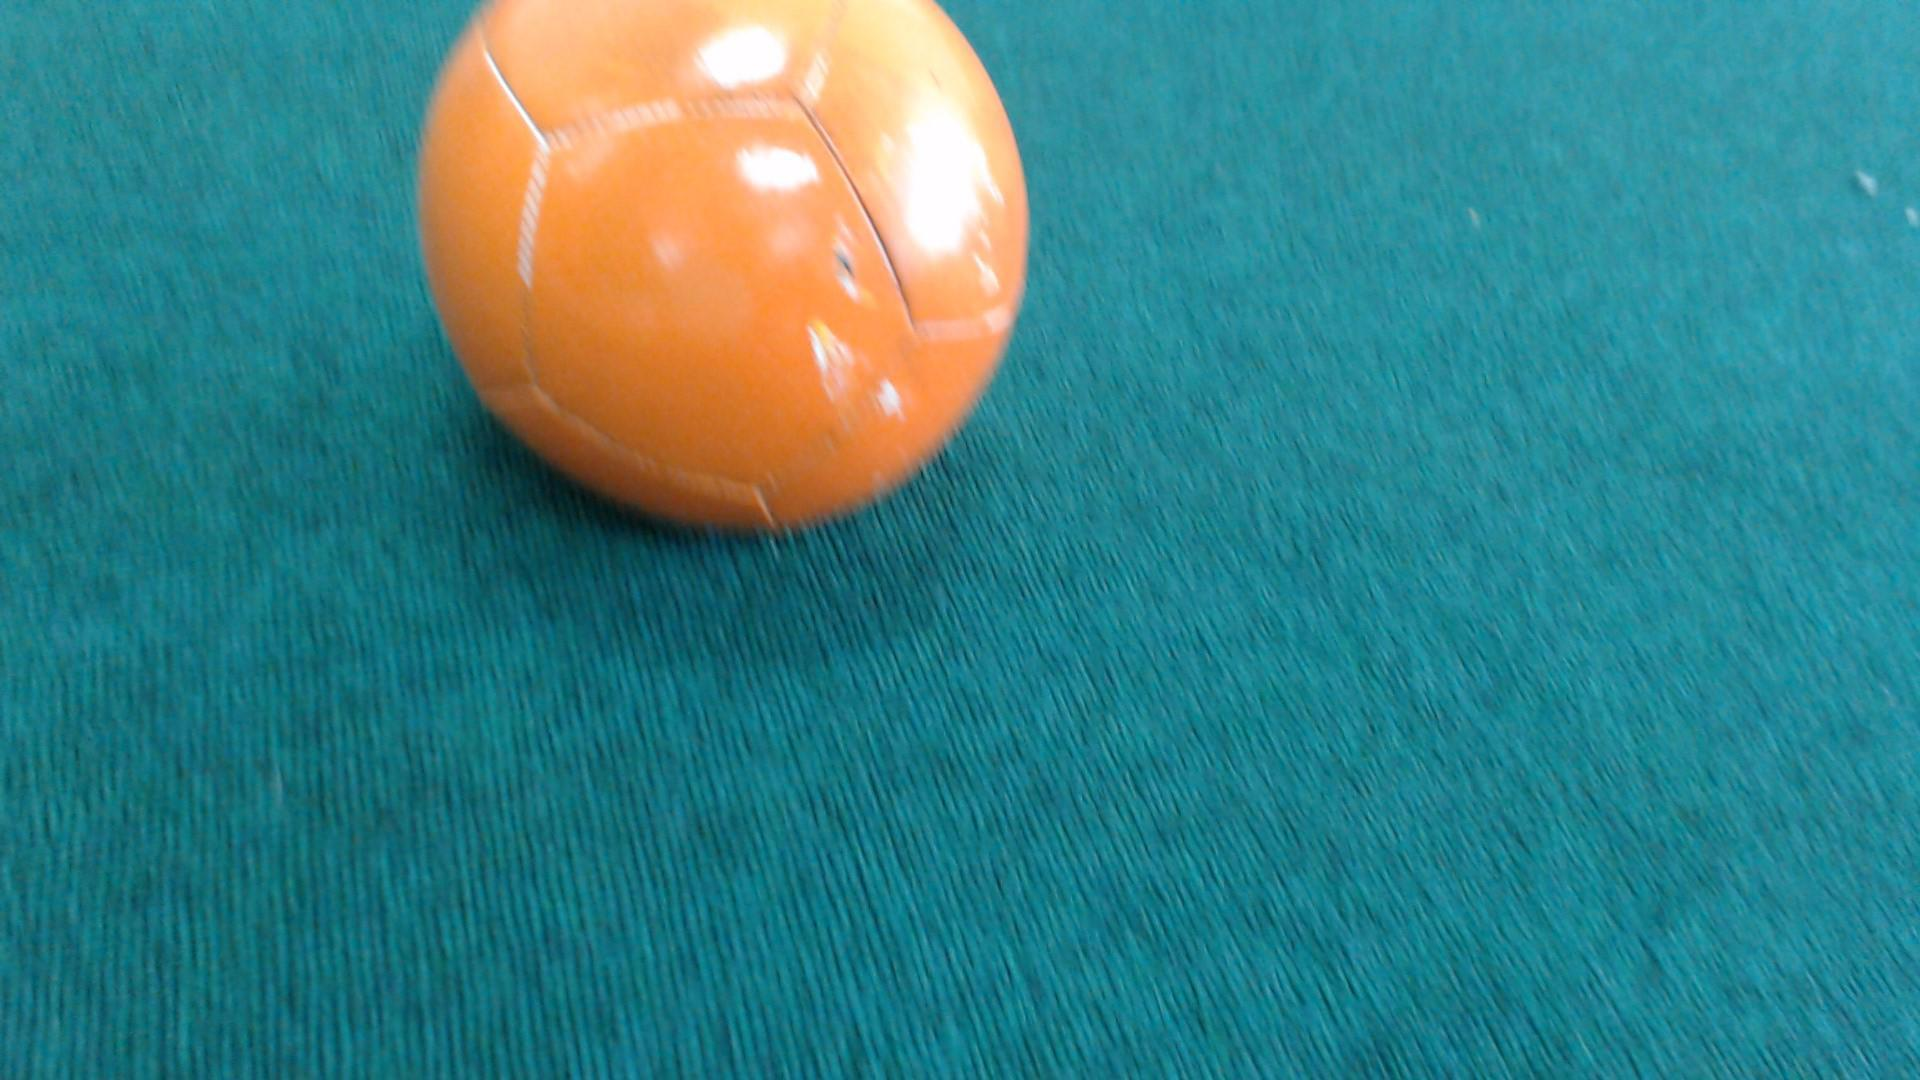bola: (401, 0, 1043, 559)
